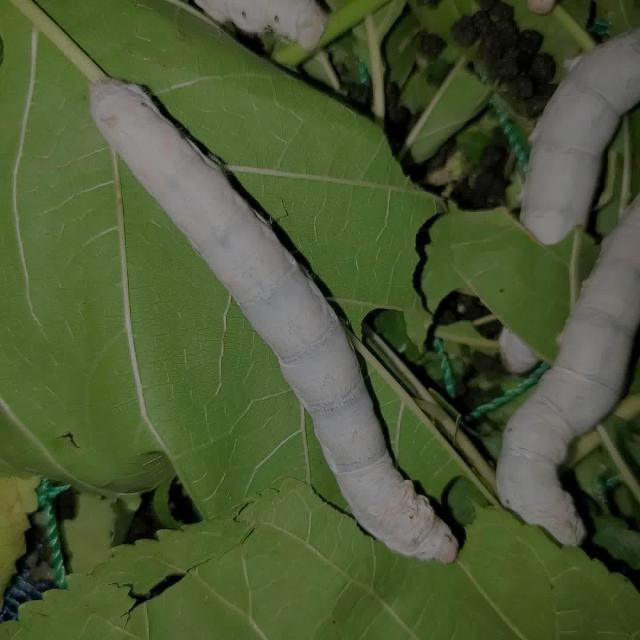Healthy: (36, 41, 485, 594)
